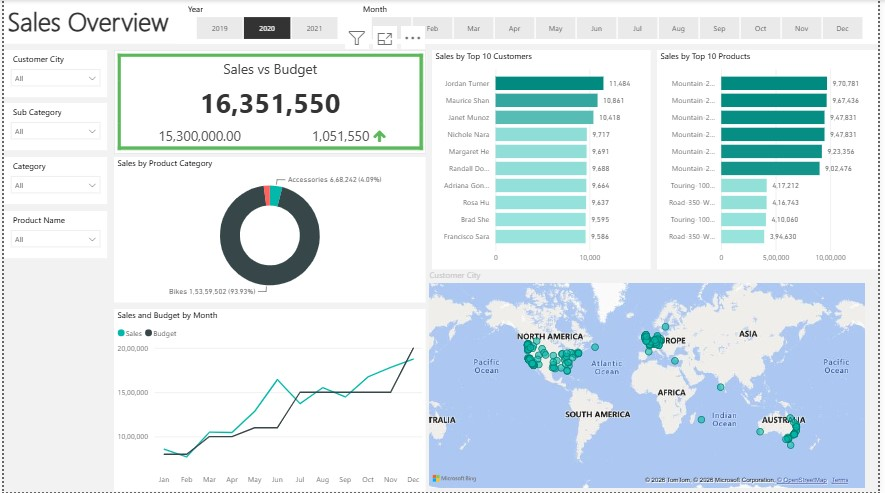

Layout of this report page (visuals, bound fields, positions):
{"tool":"powerbi","page":{"name":"Sales Overview","canvas":[1280,720],"ordinal":0},"visuals":[{"type":"textbox","box":[0,0,1280,64],"z":0},{"type":"slicer","fields":{"Values":["DIM_Calendar.Year"]},"box":[256,0,256,64],"z":1000},{"type":"slicer","fields":{"Values":["DIM_Calendar.MonthShort"]},"box":[512,0,768,64],"z":2000},{"type":"slicer","fields":{"Values":["DIM_Customers.Customer City"]},"box":[0,73,150.5,69.3],"z":3000},{"type":"slicer","fields":{"Values":["DIM_Products.Product Category"]},"box":[0,229.9,150.5,69.3],"z":4000},{"type":"slicer","fields":{"Values":["DIM_Products.Product Name"]},"box":[0,308.4,150.5,69.3],"z":5000},{"type":"slicer","fields":{"Values":["DIM_Products.Sub Category"]},"box":[0,151.4,150.5,69.3],"z":6000},{"type":"barChart","title":"Sales by Top 10 Products","fields":{"Category":["DIM_Products.Product Name"],"Y":["Analysis Metrics.Sales"]},"box":[955.2,73,324.8,321.1],"z":7000},{"type":"lineChart","fields":{"Category":["DIM_Calendar.MonthShort"],"Y":["Analysis Metrics.Sales","Analysis Metrics.Budget"]},"box":[160.7,452.8,456.3,267.2],"z":8000},{"type":"barChart","title":"Sales by Top 10 Customers","fields":{"Category":["DIM_Customers.Full Name"],"Y":["Analysis Metrics.Sales"]},"box":[625.9,73,320.2,321.1],"z":9000},{"type":"donutChart","fields":{"Y":["Analysis Metrics.Sales"],"Series":["DIM_Products.Product Category"]},"box":[160.6,229.9,456.2,213.5],"z":10000},{"type":"BBED0A4D4D8D44CE93CF2DAFADEE466C","fields":{"actual":["Analysis Metrics.Sales"],"target2":["Analysis Metrics.Sales / Budget"],"target1":["Analysis Metrics.Budget"]},"box":[160.5,73.4,456.6,151.3],"z":13001},{"type":"map","fields":{"Category":["DIM_Customers.Customer City"]},"box":[617.6,393.7,648.3,326.3],"z":13002}]}

Visuals, with their boxes on the page's 1280x720 design canvas (x1, y1, x2, y2). These are canvas units, not pixel positions in the 885x493 screenshot, which may show the page scaled, cropped or inside an application window:
textbox: 0,0,1280,64
slicer - DIM_Calendar.Year: 256,0,512,64
slicer - DIM_Calendar.MonthShort: 512,0,1280,64
slicer - DIM_Customers.Customer City: 0,73,150,142
slicer - DIM_Products.Product Category: 0,230,150,299
slicer - DIM_Products.Product Name: 0,308,150,378
slicer - DIM_Products.Sub Category: 0,151,150,221
"Sales by Top 10 Products" barChart: 955,73,1280,394
lineChart - DIM_Calendar.MonthShort x Analysis Metrics.Sales: 161,453,617,720
"Sales by Top 10 Customers" barChart: 626,73,946,394
donutChart - Analysis Metrics.Sales x DIM_Products.Product Category: 161,230,617,443
BBED0A4D4D8D44CE93CF2DAFADEE466C - Analysis Metrics.Sales x Analysis Metrics.Sales / Budget: 160,73,617,225
map - DIM_Customers.Customer City: 618,394,1266,720
